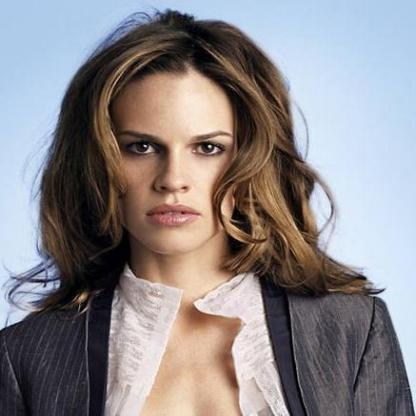long-hair: (10, 253, 377, 290)
